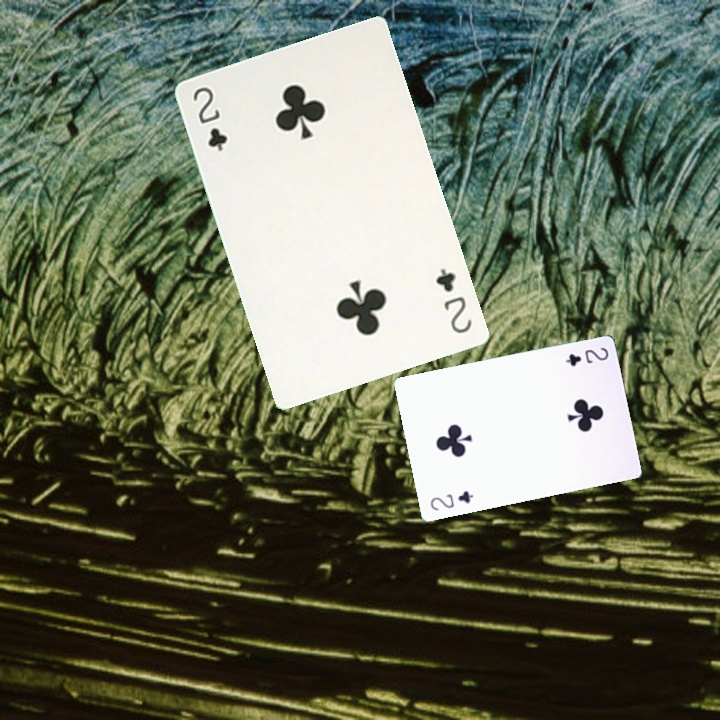2c: (431, 264, 475, 336), (188, 82, 230, 154), (426, 487, 476, 513), (561, 343, 611, 369)
